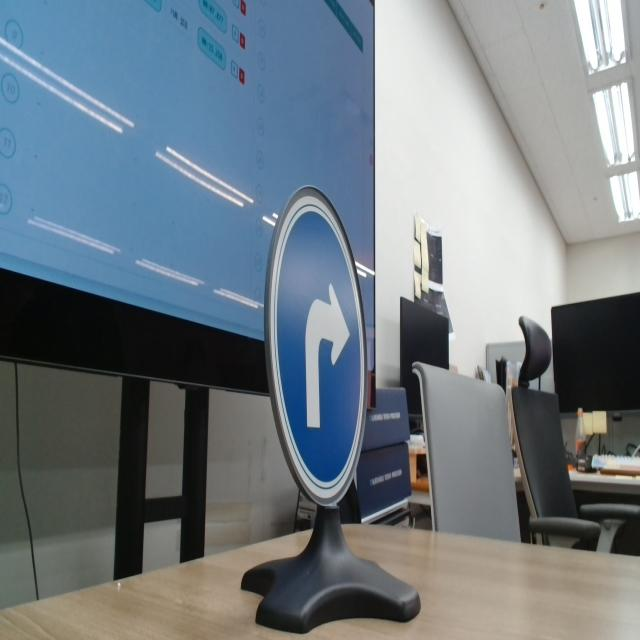right_dierection: (259, 168, 373, 512)
